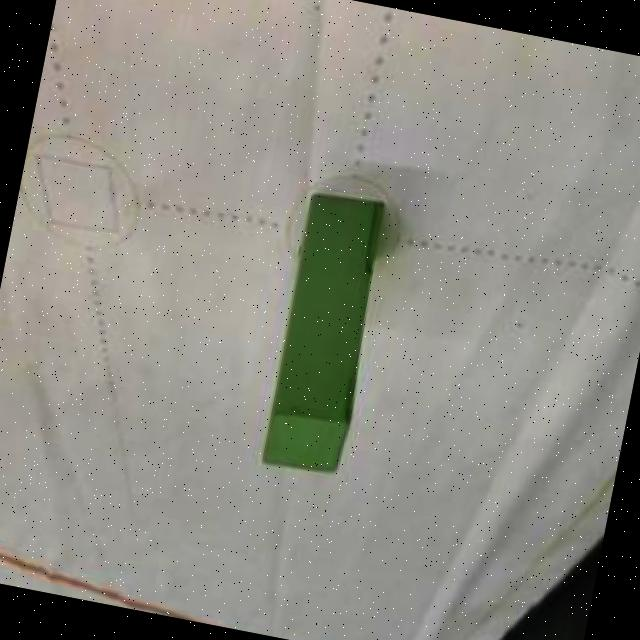greenbox: (255, 188, 395, 480)
